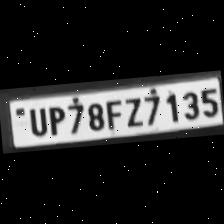1: (160, 90, 182, 124)
3: (177, 87, 200, 122)
5: (196, 84, 220, 119)
7: (63, 100, 86, 136), (140, 91, 162, 126)
8: (82, 98, 106, 133)
F: (102, 97, 124, 130)
P: (44, 103, 66, 137)
U: (24, 104, 48, 137)
Z: (122, 94, 144, 128)
